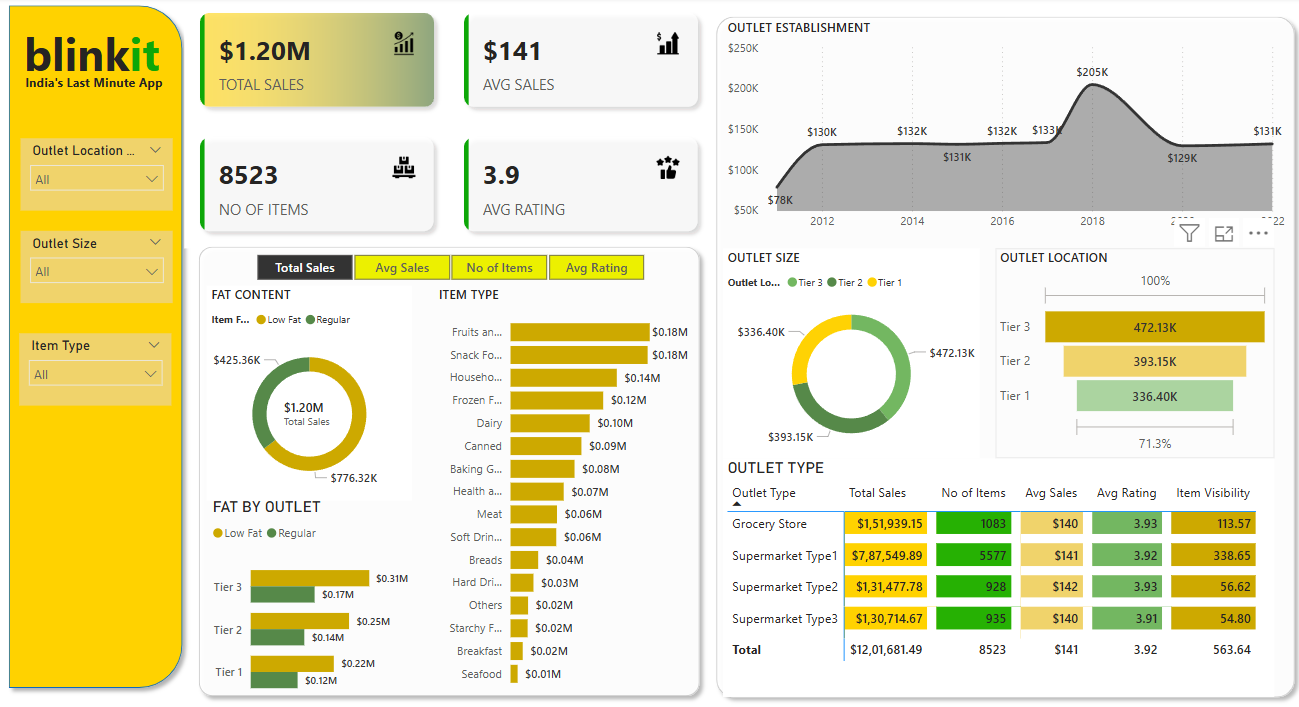

What the dashboard file says about the page in this screenshot:
{"tool":"powerbi","page":{"name":"Page 1","canvas":[1400,800],"ordinal":0},"visuals":[{"type":"shape","box":[3,0,204.1,750.4],"z":0},{"type":"textbox","box":[22.5,22.5,165.1,82.5],"z":1000},{"type":"textbox","box":[24.1,77.7,182.3,34.9],"z":2000},{"type":"cardVisual","fields":{"Data":["BlinkIT Grocery Data.Total Sales","BlinkIT Grocery Data.Avg Sales","BlinkIT Grocery Data.No of Items","BlinkIT Grocery Data.Avg Rating"]},"box":[199.7,0,569.7,269.4],"z":3000},{"type":"shape","box":[206.4,258.7,555,500],"z":4000},{"type":"donutChart","title":"FAT CONTENT","fields":{"Y":["BlinkIT Grocery Data.Total Sales"],"Category":["BlinkIT Grocery Data.Item Fat Content"]},"box":[223.9,309.7,219.8,230.6],"z":5000},{"type":"slicer","fields":{"Values":["Metrics.Metrics"]},"box":[252,269.4,465.1,40.2],"z":6000},{"type":"cardVisual","fields":{"Data":["BlinkIT Grocery Data.Total Sales"]},"box":[289.5,408.8,89.8,75.1],"z":7000},{"type":"clusteredBarChart","title":"FAT BY OUTLET","fields":{"Y":["BlinkIT Grocery Data.Total Sales"],"Category":["BlinkIT Grocery Data.Outlet Location Type"],"Series":["BlinkIT Grocery Data.Item Fat Content"]},"box":[225.2,536.2,219.8,230.6],"z":8000},{"type":"barChart","title":"ITEM TYPE","fields":{"Y":["BlinkIT Grocery Data.Total Sales"],"Category":["BlinkIT Grocery Data.Item Type"]},"box":[467.8,309.7,277.5,441],"z":9000},{"type":"shape","box":[761.4,12.1,638.1,748],"z":10000},{"type":"lineChart","title":"OUTLET ESTABLISHMENT","fields":{"Y":["BlinkIT Grocery Data.Total Sales"],"Category":["BlinkIT Grocery Data.Outlet Establishment Year"]},"box":[777.5,22.8,607.2,235.9],"z":11000},{"type":"donutChart","title":"OUTLET SIZE","fields":{"Y":["BlinkIT Grocery Data.Total Sales"],"Category":["BlinkIT Grocery Data.Outlet Location Type"]},"box":[777.5,269.4,275,225],"z":12000},{"type":"funnel","title":"OUTLET LOCATION","fields":{"Y":["Sum(BlinkIT Grocery Data.Sales)"],"Category":["BlinkIT Grocery Data.Outlet Location Type"]},"box":[1069.7,269.4,298.9,225.2],"z":13000},{"type":"pivotTable","title":"OUTLET TYPE","fields":{"Rows":["BlinkIT Grocery Data.Outlet Type"],"Values":["BlinkIT Grocery Data.Total Sales","BlinkIT Grocery Data.No of Items","BlinkIT Grocery Data.Avg Sales","BlinkIT Grocery Data.Avg Rating","Sum(BlinkIT Grocery Data.Item Visibility)"]},"box":[777.5,494.6,591.2,256],"z":14000},{"type":"slicer","fields":{"Values":["BlinkIT Grocery Data.Outlet Location Type"]},"box":[24.1,151.5,163.5,77.7],"z":15000},{"type":"slicer","fields":{"Values":["BlinkIT Grocery Data.Outlet Size"]},"box":[24.1,250.7,163.5,77.7],"z":15001},{"type":"slicer","fields":{"Values":["BlinkIT Grocery Data.Item Type"]},"box":[22.8,360.6,163.5,77.7],"z":15002}]}

Visuals, with their boxes on the page's 1400x800 design canvas (x1, y1, x2, y2). These are canvas units, not pixel positions in the 1299x707 screenshot, which may show the page scaled, cropped or inside an application window:
shape: box=[3, 0, 207, 750]
textbox: box=[22, 22, 188, 105]
textbox: box=[24, 78, 206, 113]
cardVisual - BlinkIT Grocery Data.Total Sales x BlinkIT Grocery Data.Avg Sales: box=[200, 0, 769, 269]
shape: box=[206, 259, 761, 759]
"FAT CONTENT" donutChart: box=[224, 310, 444, 540]
slicer - Metrics.Metrics: box=[252, 269, 717, 310]
cardVisual - BlinkIT Grocery Data.Total Sales: box=[290, 409, 379, 484]
"FAT BY OUTLET" clusteredBarChart: box=[225, 536, 445, 767]
"ITEM TYPE" barChart: box=[468, 310, 745, 751]
shape: box=[761, 12, 1400, 760]
"OUTLET ESTABLISHMENT" lineChart: box=[778, 23, 1385, 259]
"OUTLET SIZE" donutChart: box=[778, 269, 1052, 494]
"OUTLET LOCATION" funnel: box=[1070, 269, 1369, 495]
"OUTLET TYPE" pivotTable: box=[778, 495, 1369, 751]
slicer - BlinkIT Grocery Data.Outlet Location Type: box=[24, 152, 188, 229]
slicer - BlinkIT Grocery Data.Outlet Size: box=[24, 251, 188, 328]
slicer - BlinkIT Grocery Data.Item Type: box=[23, 361, 186, 438]
